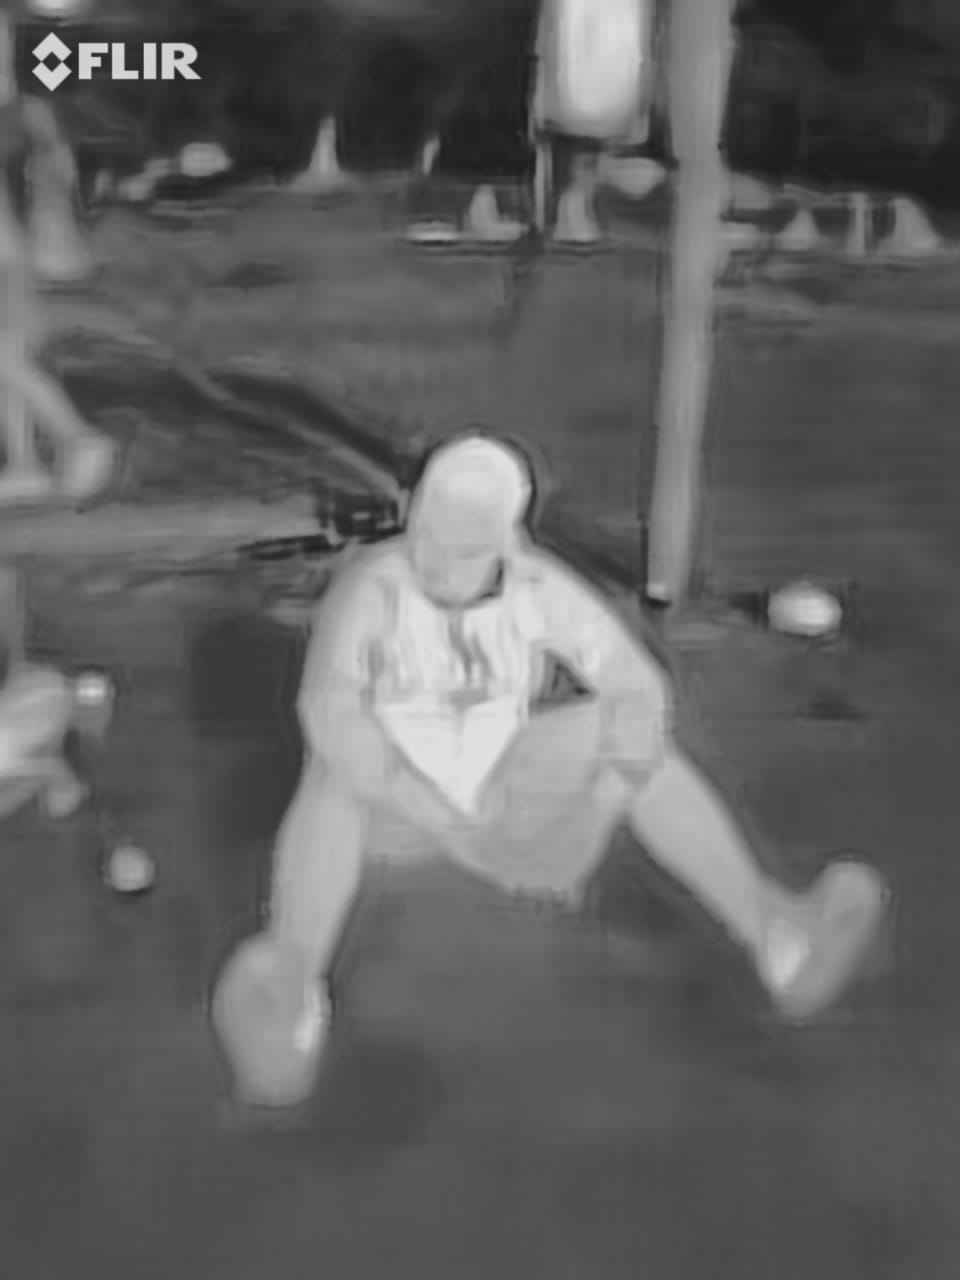head: (396, 430, 517, 611)
